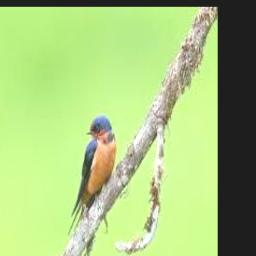Swallow: (68, 115, 117, 239)
